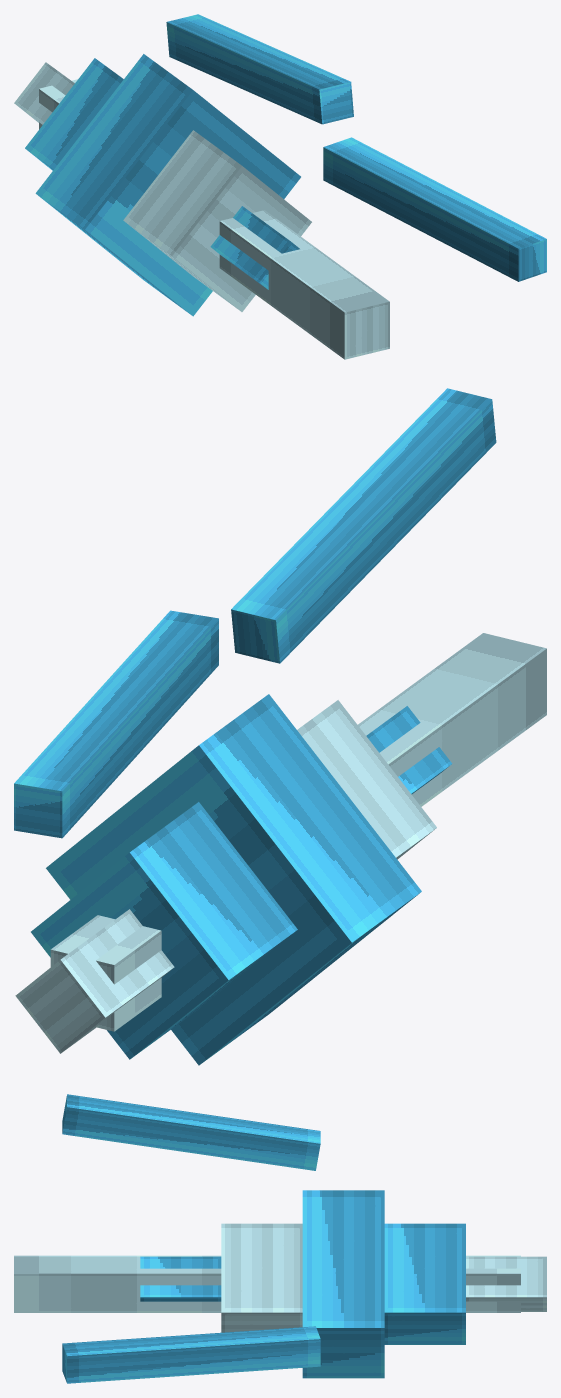
The model's file is tower_shot_blue.gltf.
3 views of the same model, one above another, from view 1: azimuth 30°, elevation 25°; view 2: azimuth 150°, elevation 25°; view 3: azimuth 270°, elevation 25° (orthographic). The views are drawn at different scales.
Parts seen in each view (by area): view 1: core_mesh; view 2: core_mesh; view 3: core_mesh.
Part boxes in pixels (box(x1,y1,x2,y2)): core_mesh: box(14, 14, 546, 359); core_mesh: box(14, 388, 546, 1065); core_mesh: box(14, 1094, 546, 1383).
Bounding box in the file's own units: 0.3775 × 0.3775 × 0.6569.
1 material, 1 textured.
